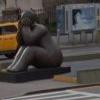Statue: (11, 7, 70, 83)
